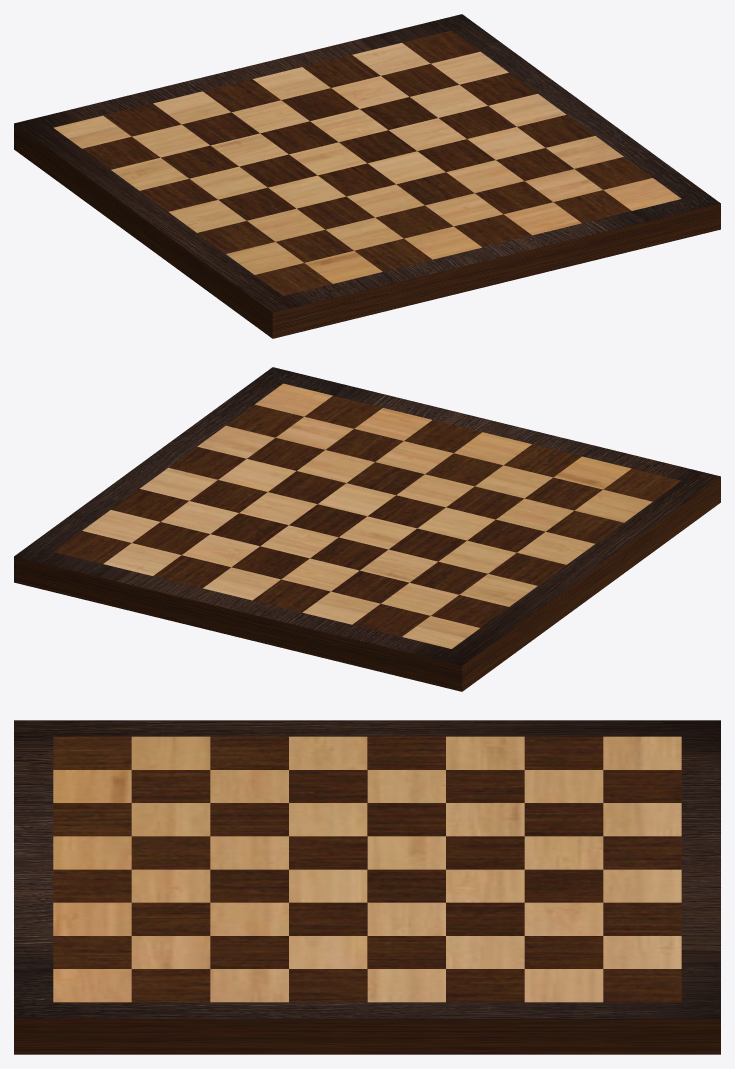
Rendered from tablero.fbx.
The picture shows the model from 3 angles, top to bottom: view 1: azimuth 30°, elevation 25°; view 2: azimuth 150°, elevation 25°; view 3: azimuth 270°, elevation 25°; orthographic projection. The views are drawn at different scales.
Parts seen in each view (by area): view 1: Tablero; view 2: Tablero; view 3: Tablero.
Boxes of the visible parts, <box> form: Tablero: <box>14,14,720,338</box>; Tablero: <box>14,367,720,691</box>; Tablero: <box>14,720,720,1054</box>.
Bounding box in the file's own units: 360 × 20.1 × 360.
3 materials, 3 textured.
